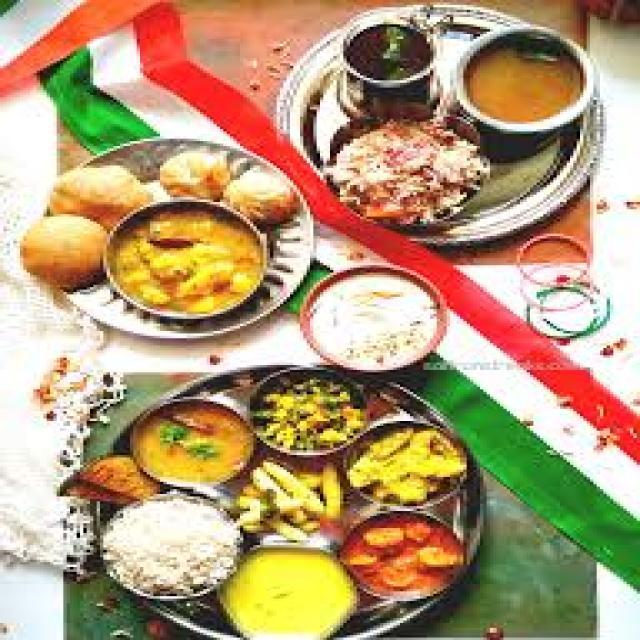curd: (292, 270, 455, 372)
dal: (120, 402, 258, 492)
raita: (291, 272, 457, 373)
rice: (327, 125, 489, 233), (92, 495, 238, 601), (0, 278, 92, 430)
sambar-rasam: (447, 33, 591, 132)
sweet: (115, 199, 283, 320)
veg-fry: (347, 419, 476, 511)
